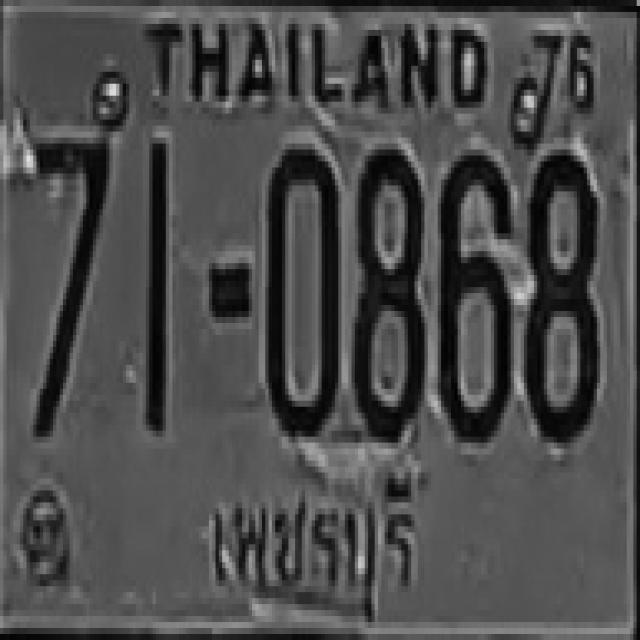0: (266, 144, 338, 436)
1: (146, 137, 166, 430)
6: (438, 150, 510, 436)
7: (31, 132, 108, 430)
8: (522, 146, 596, 440), (352, 144, 421, 436)
Phetchaburi: (206, 459, 434, 634)
